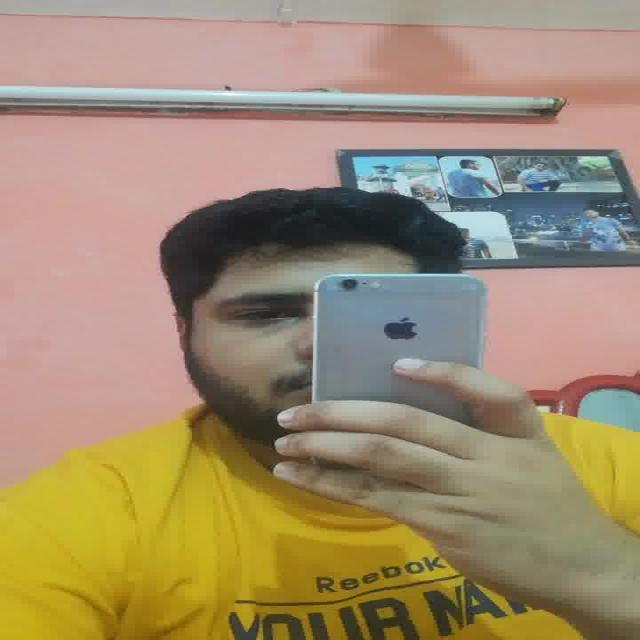Phone: (314, 271, 488, 401)
